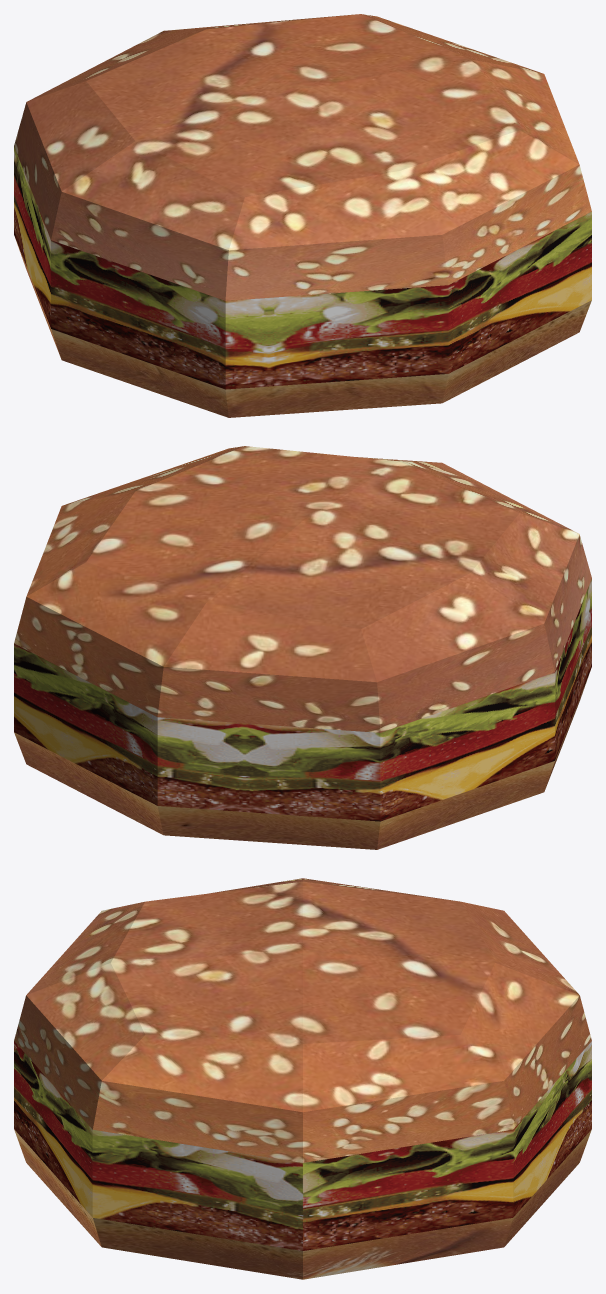
Rendered from lowpoly_burger.glb.
The picture shows the model from 3 angles, top to bottom: view 1: azimuth 30°, elevation 25°; view 2: azimuth 150°, elevation 25°; view 3: azimuth 270°, elevation 25°; orthographic projection.
Visible parts, largest first — view 1: Object_2; view 2: Object_2; view 3: Object_2.
Boxes of the visible parts, x1,y1,x2,y2 form: Object_2: (14, 14, 591, 417); Object_2: (14, 446, 591, 849); Object_2: (14, 878, 591, 1279).
Bounding box in the file's own units: 1.83 × 0.7673 × 1.83.
Materials: 1 (1 with a texture image).
